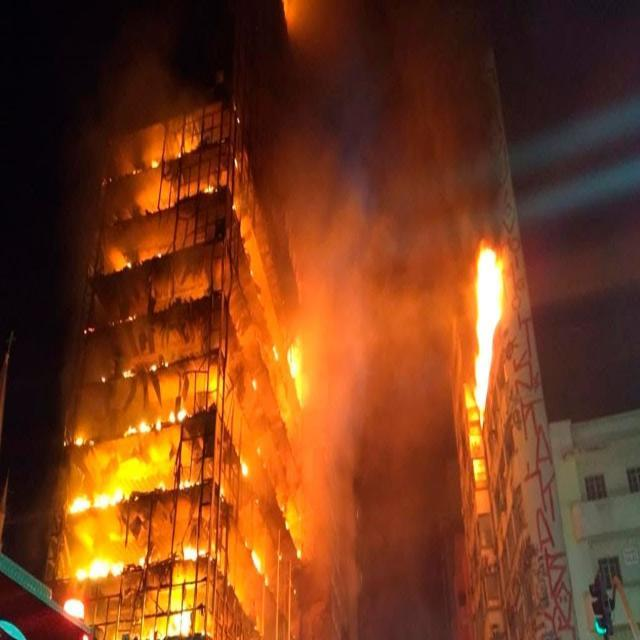Fire: (71, 114, 301, 640), (456, 208, 514, 432)
